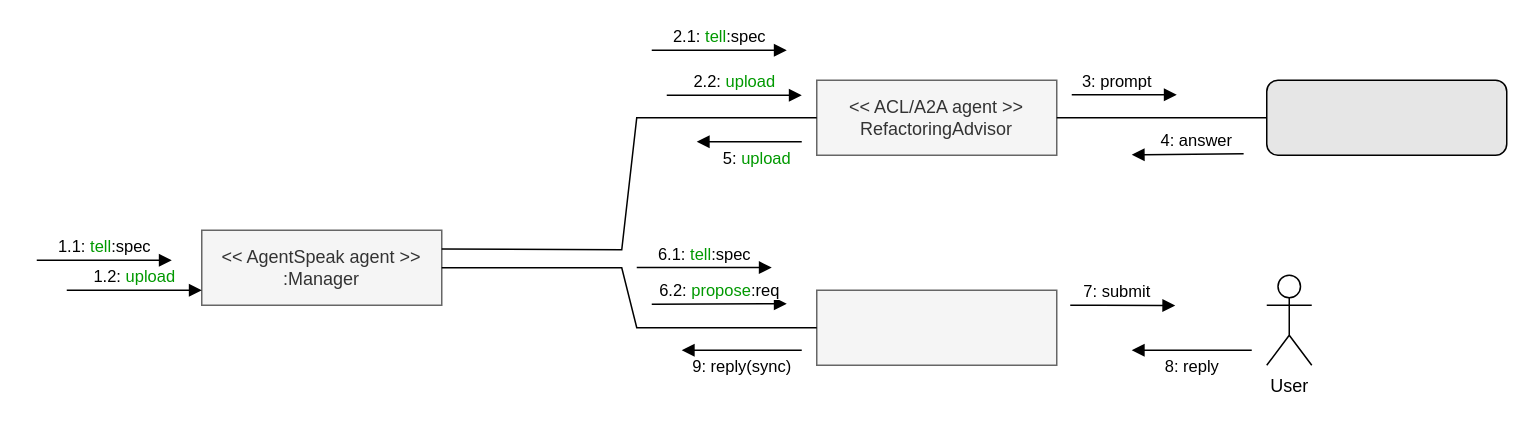
Image size: 1533x422. Some labels were removed from this diagram. Each missing label, with the centre of its shape:
<< ACL/A2A agent >> :HumanValidator: [936,327]
LLM: [1386,117]
